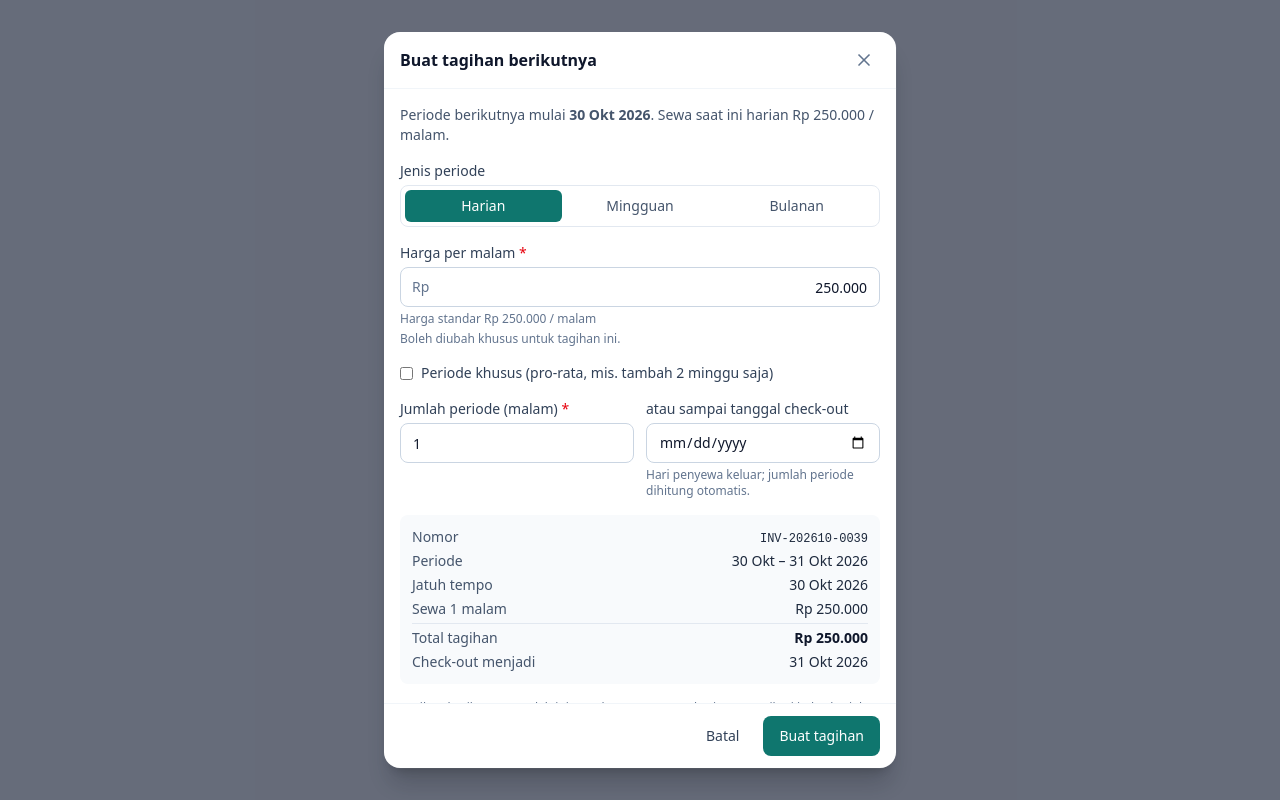
Test case: Buat tagihan berikutnya: deposit when a stay switches to weekly or monthly › the deposit payment failing after the invoice: both saved stay, the message says where to finish
Click the 2nd radio button labelled "Mingguan" at (640, 206), box x1=562 y1=190 x2=718 y2=222
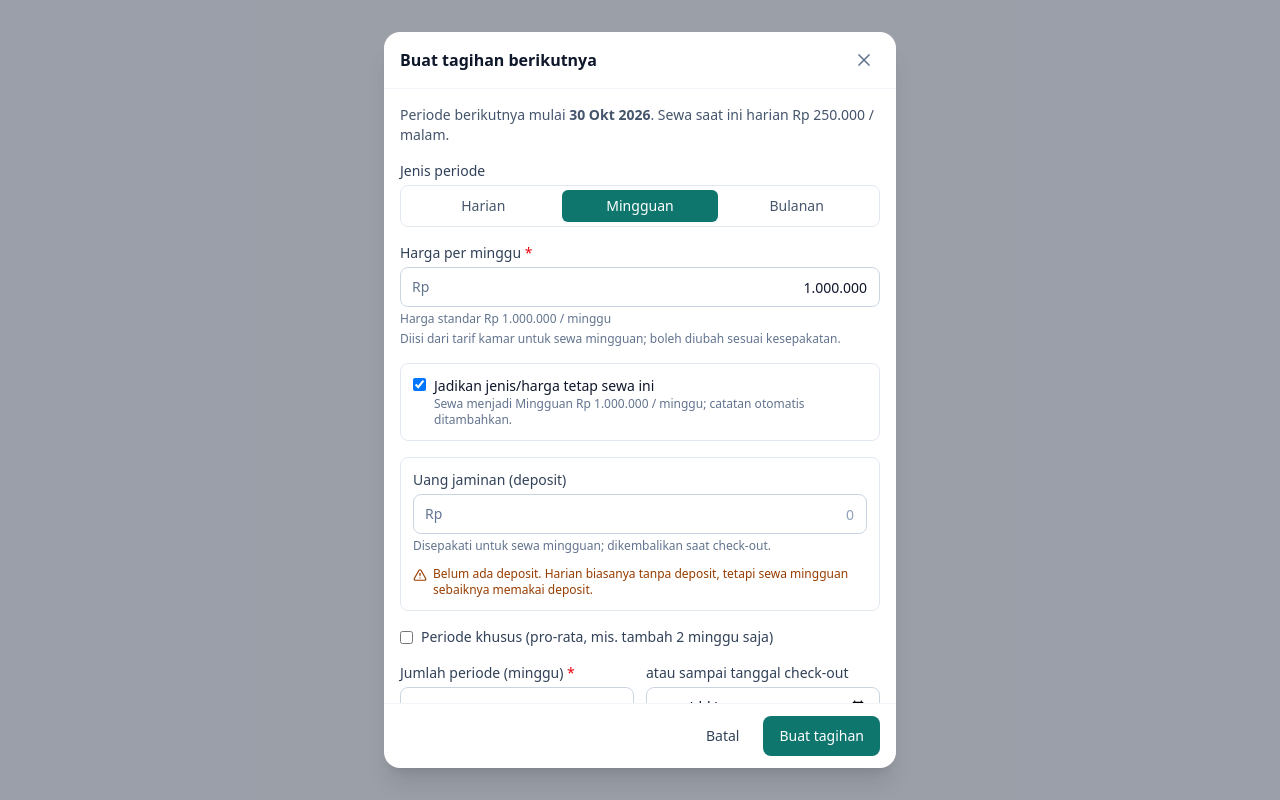
Type "200000" into the field labelled "Uang jaminan (deposit)" at (640, 514), box x1=413 y1=494 x2=867 y2=534
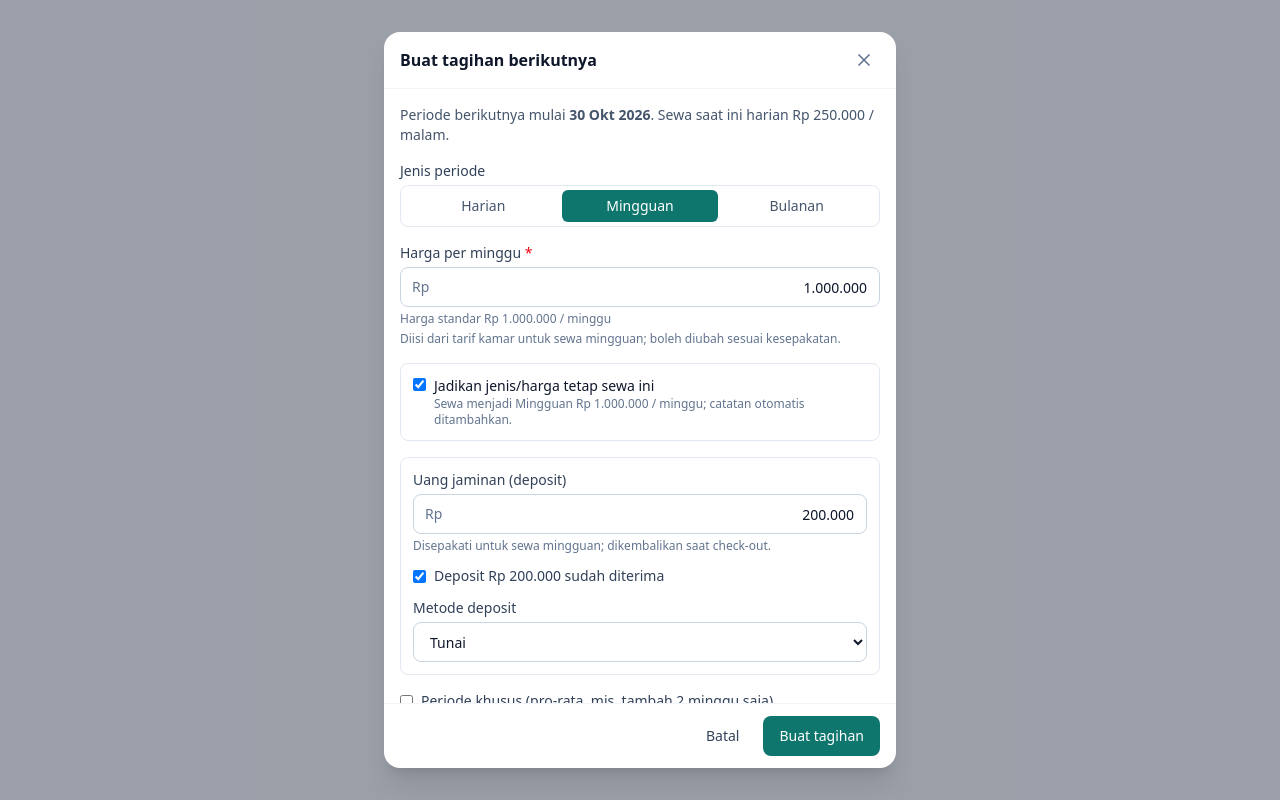
Click the button "Buat tagihan" at (822, 736), box x1=763 y1=716 x2=880 y2=756
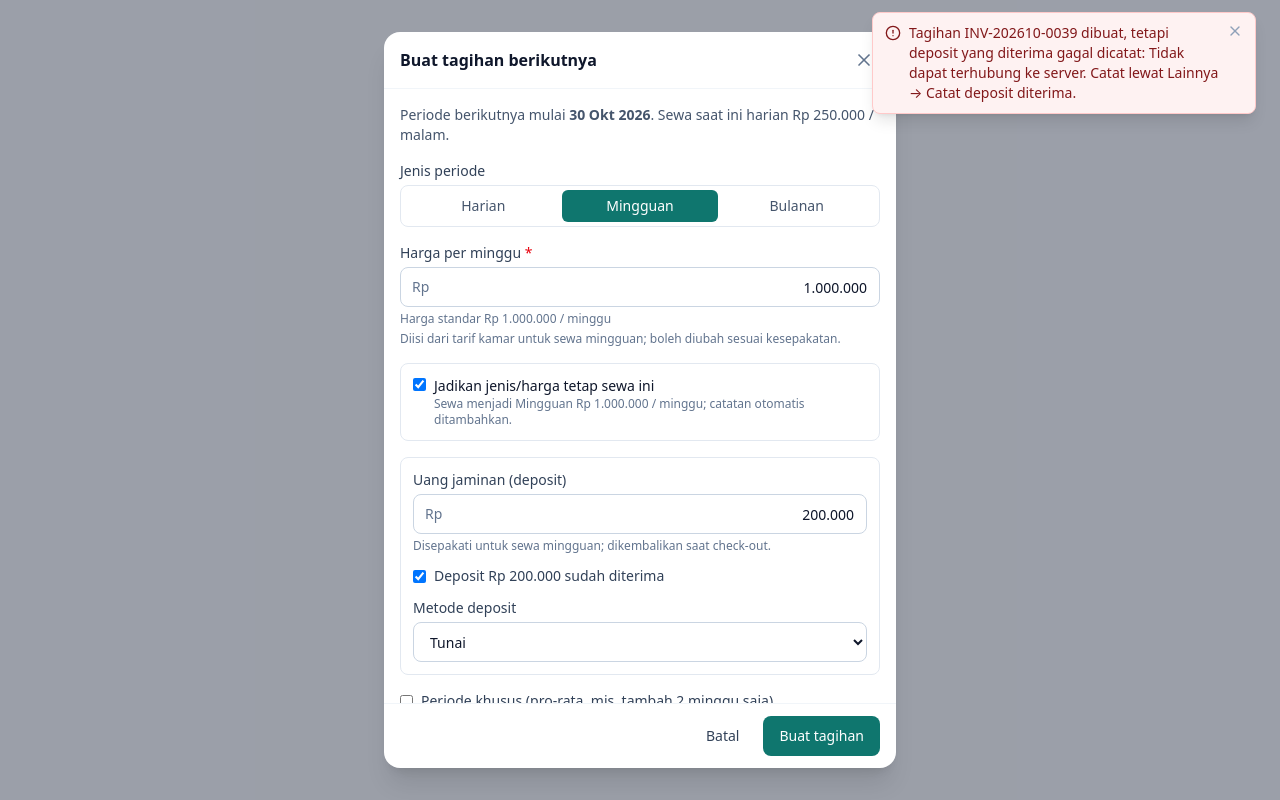
Now the text "deposit yang diterima gagal dicatat: Tidak dapat terhubung ke server. Catat lewat Lainnya → Catat deposit diterima." is shown, box x1=909 y1=23 x2=1218 y2=102
